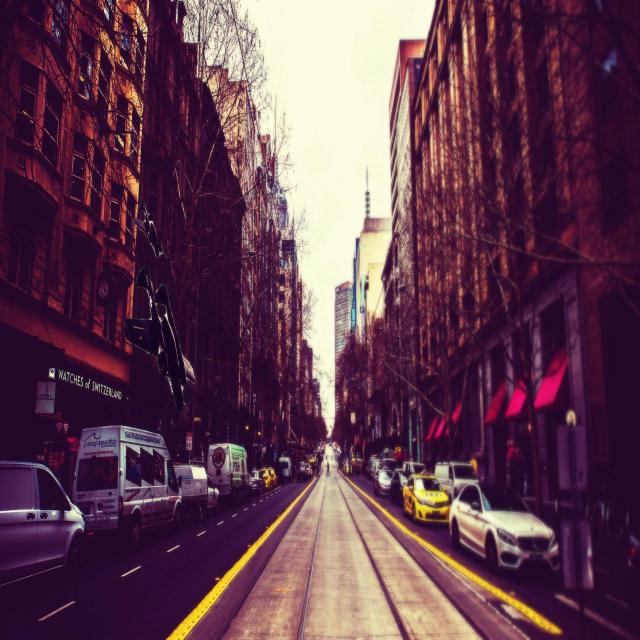airplane: (126, 263, 196, 407), (126, 200, 175, 268)
